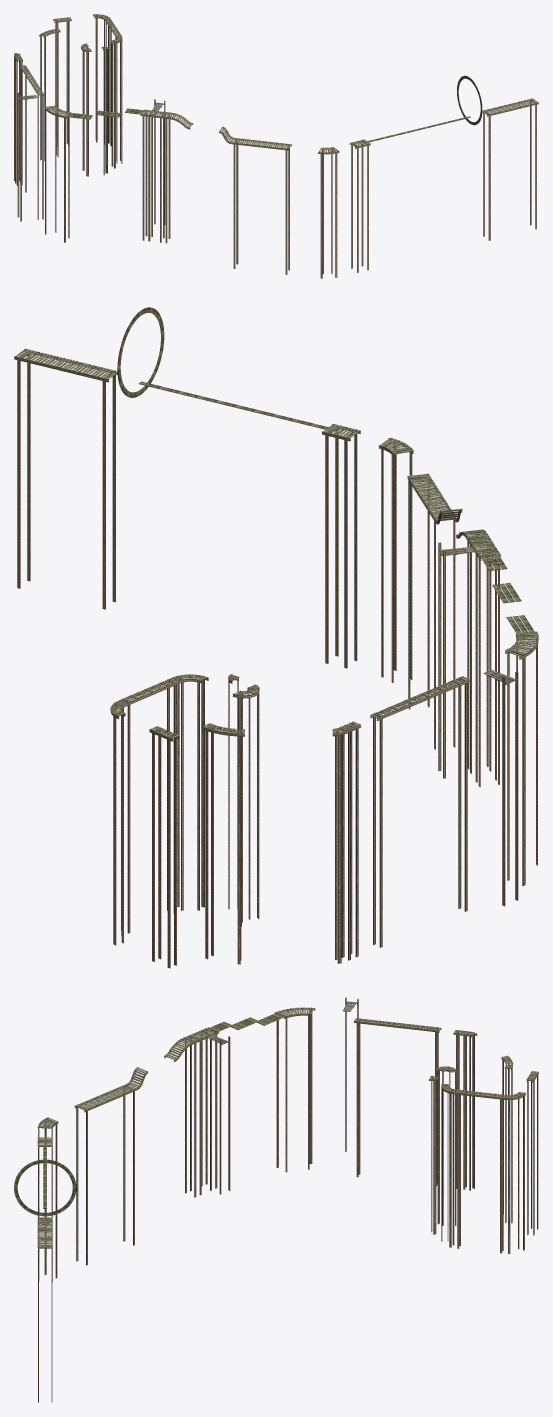
The picture shows the model from 3 angles, top to bottom: view 1: azimuth 30°, elevation 25°; view 2: azimuth 150°, elevation 25°; view 3: azimuth 270°, elevation 25°; orthographic projection. The views are drawn at different scales.
Parts seen in each view (by area): view 1: Ramp.014, Ramp.002, Ramp.012, Ramp.022, Ramp.010, Ramp.029, Ramp.048, Ramp.034, Ramp.039, Ramp.046, Ramp.021, Ramp.023 (+7 smaller); view 2: Ramp.002, Ramp.034, Ramp.010, Ramp.044, Ramp.014, Ramp.048, Ramp.036, Ramp.012, Ramp.039, Ramp.029, Ramp.022, Ramp.047 (+8 smaller); view 3: Ramp.014, Ramp.029, Ramp.034, Ramp.048, Ramp.047, Ramp.022, Ramp.044, Ramp.050, Ramp.046, Ramp.036, Ramp.012, Ramp.002 (+7 smaller).
Boxes of the visible parts, x1,y1,x2,y2 form: Ramp.014: (231,138,291,274); Ramp.002: (482,98,538,240); Ramp.012: (318,147,339,278); Ramp.022: (146,110,166,242); Ramp.010: (349,139,370,272); Ramp.029: (44,105,70,242); Ramp.048: (110,36,122,168); Ramp.034: (20,65,43,219); Ramp.039: (39,28,60,161); Ramp.046: (93,14,110,144); Ramp.021: (163,112,172,243); Ramp.023: (140,109,149,240); Ramp.002: (14,348,117,609); Ramp.034: (370,676,470,947); Ramp.010: (322,423,360,668); Ramp.044: (149,726,179,968); Ramp.014: (407,473,455,749); Ramp.048: (172,674,208,910); Ramp.036: (339,721,360,960); Ramp.012: (379,437,413,682); Ramp.039: (202,723,244,964); Ramp.029: (505,631,538,886); Ramp.022: (469,538,497,782); Ramp.047: (118,678,179,933); Ramp.014: (74,1084,136,1265); Ramp.029: (274,1007,315,1172); Ramp.034: (354,1018,441,1185); Ramp.048: (441,1083,456,1247); Ramp.047: (454,1089,506,1253); Ramp.022: (188,1029,213,1195); Ramp.044: (526,1071,538,1235); Ramp.050: (436,1066,456,1225); Ramp.046: (504,1092,525,1253); Ramp.036: (453,1030,469,1189); Ramp.012: (37,1117,58,1282); Ramp.002: (37,1217,52,1402).
Bounding box in the file's own units: 7618 × 3050 × 7106.
